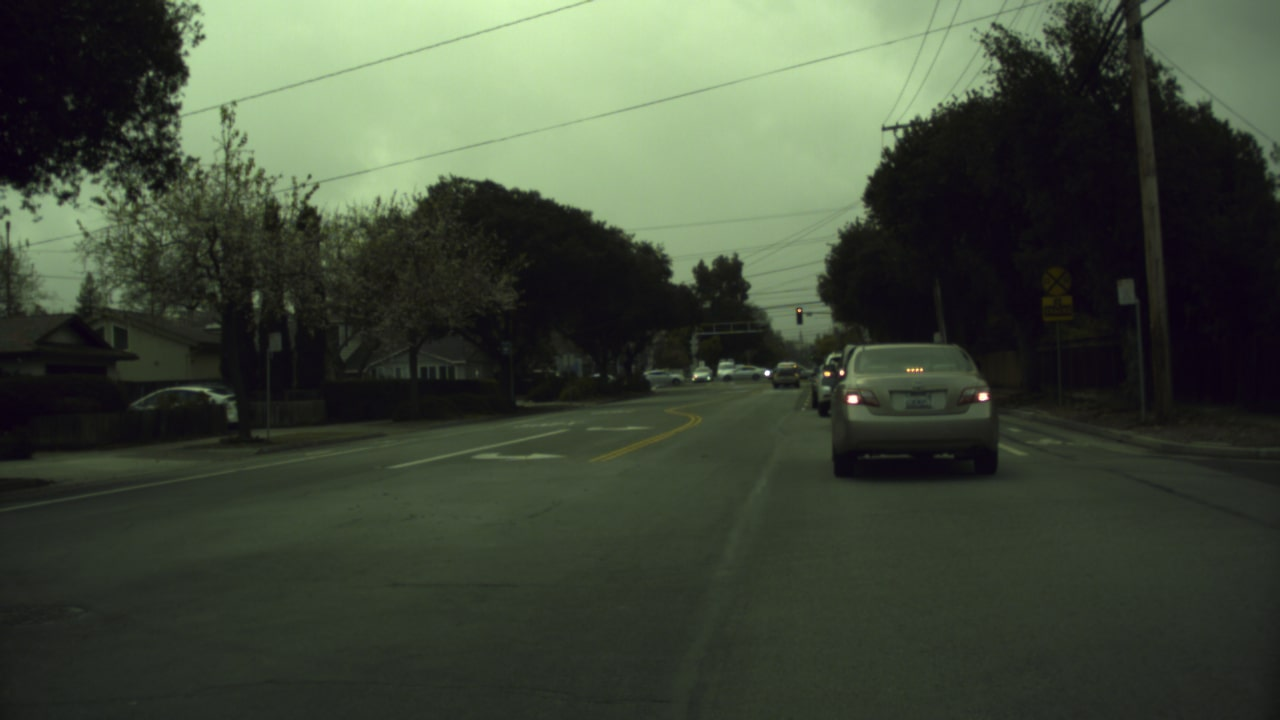signal: (794, 307, 805, 327)
